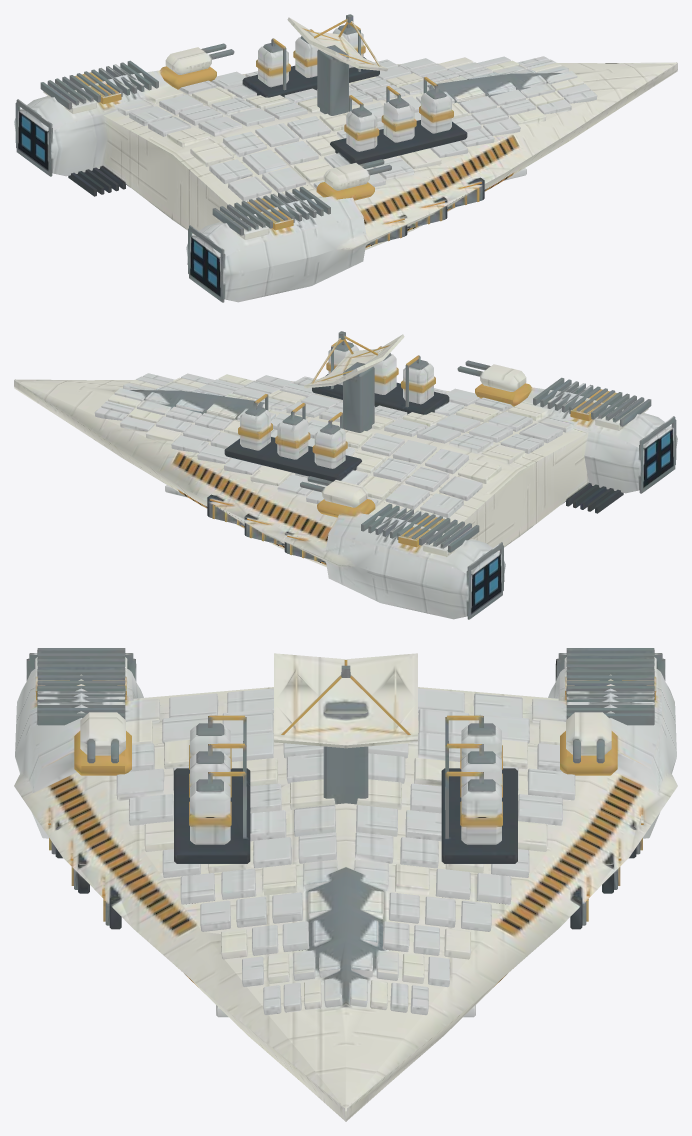
File: wedge-renewed.glb
3 views of the same model, one above another, from view 1: azimuth 30°, elevation 25°; view 2: azimuth 150°, elevation 25°; view 3: azimuth 270°, elevation 25° (orthographic). The views are drawn at different scales.
Visible parts, largest first — view 1: wedge-renewed; view 2: wedge-renewed; view 3: wedge-renewed.
Part boxes in pixels (x1,y1,x2,y2): wedge-renewed: [14, 14, 677, 302]; wedge-renewed: [14, 331, 677, 619]; wedge-renewed: [14, 648, 677, 1121].
Bounding box in the file's own units: 1 × 0.287 × 0.6699.
Materials: 1 (1 with a texture image).
